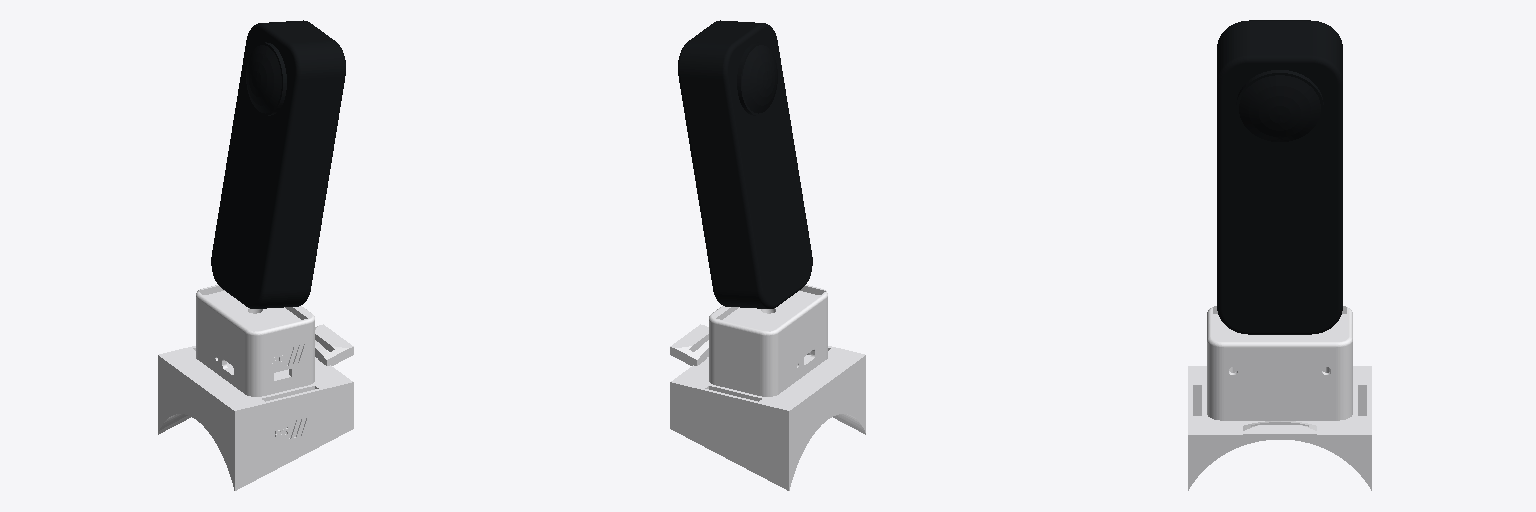
URDF robot description (pg_hand):
<?xml version="1.0"?>
<!-- PG Chopstick X5 hardware, generated by cad/urdf.py. Units: m, rad. -->
<robot name="pg_hand">
  <material name="pg_blue"><color rgba="0.12 0.37 0.68 1"/></material>
  <material name="pg_white"><color rgba="0.96 0.96 0.97 1"/></material>
  <material name="tpu"><color rgba="0.87 0.9 0.93 1"/></material>
  <material name="pg_green"><color rgba="0.18 0.62 0.27 1"/></material>
  <material name="pg_red"><color rgba="0.84 0.16 0.16 1"/></material>
  <material name="pg_strap"><color rgba="0.17 0.35 0.63 1"/></material>
  <material name="camera"><color rgba="0.11 0.12 0.13 1"/></material>
  <link name="pg_base">
    <visual name="x5_lite_frame"><origin xyz="0 0 0" rpy="0 0 0"/><geometry><mesh filename="meshes/x5_lite_frame.stl" scale="0.001 0.001 0.001"/></geometry><material name="pg_blue"/></visual>
    <collision name="x5_lite_frame"><origin xyz="0 0 0" rpy="0 0 0"/><geometry><mesh filename="meshes/x5_lite_frame.stl" scale="0.001 0.001 0.001"/></geometry></collision>
    <visual name="pg_pod"><origin xyz="0 0 0" rpy="0 0 0"/><geometry><mesh filename="meshes/pg_pod.stl" scale="0.001 0.001 0.001"/></geometry><material name="pg_white"/></visual>
    <collision name="pg_pod"><origin xyz="0 0 0" rpy="0 0 0"/><geometry><mesh filename="meshes/pg_pod.stl" scale="0.001 0.001 0.001"/></geometry></collision>
    <visual name="pg_wrist_saddle"><origin xyz="0 0 0" rpy="0 0 0"/><geometry><mesh filename="meshes/pg_wrist_saddle.stl" scale="0.001 0.001 0.001"/></geometry><material name="pg_white"/></visual>
    <collision name="pg_wrist_saddle"><origin xyz="0 0 0" rpy="0 0 0"/><geometry><mesh filename="meshes/pg_wrist_saddle.stl" scale="0.001 0.001 0.001"/></geometry></collision>
    <visual name="insta360_x5_envelope"><origin xyz="0 0 0" rpy="0 0 0"/><geometry><mesh filename="meshes/insta360_x5_envelope.stl" scale="0.001 0.001 0.001"/></geometry><material name="camera"/></visual>
    <collision name="insta360_x5_envelope"><origin xyz="0 0 0" rpy="0 0 0"/><geometry><mesh filename="meshes/insta360_x5_envelope.stl" scale="0.001 0.001 0.001"/></geometry></collision>
    <inertial><origin xyz="0.0248159 0.000145429 -0.00404472" rpy="0 0 0"/><mass value="0.2831"/><inertia ixx="0.0007585" ixy="2.099e-07" ixz="-0.0001136" iyy="0.000745" iyz="9.247e-07" izz="0.0001155"/></inertial>
  </link>
  <link name="pg_camera"/>
  <joint name="pg_camera_joint" type="fixed"><parent link="pg_base"/><child link="pg_camera"/><origin xyz="0.034420877 0 0.057" rpy="0 0.174532726 0"/></joint>
</robot>

--- Render facts (derived) ---
3 views of the same robot in one strip: view 1: azimuth 30°, elevation 25°; view 2: azimuth 150°, elevation 25°; view 3: azimuth 270°, elevation 25° (orthographic).
Robot: pg_hand — 2 links, 1 joints (1 fixed); root link pg_base; default pose: all joints at 0.
Visible links, largest first — view 1: pg_base; view 2: pg_base; view 3: pg_base.
Boxes of the visible links, left/top/right/bottom form: pg_base: left=158, top=20, right=353, bottom=490; pg_base: left=670, top=20, right=865, bottom=490; pg_base: left=1188, top=20, right=1371, bottom=490.
Bounding box of the posed robot: 0.072 × 0.0672 × 0.197 m (x, y, z).
3 mesh visuals loaded from 4 distinct referenced files (3 binary STL); not drawn: 1 (reference not matched to a file when rendering).
